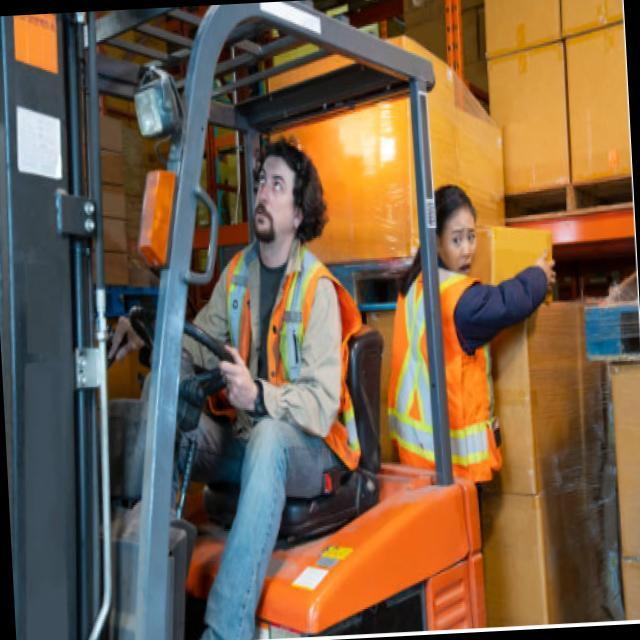vest: (219, 243, 368, 482), (384, 256, 510, 492)
